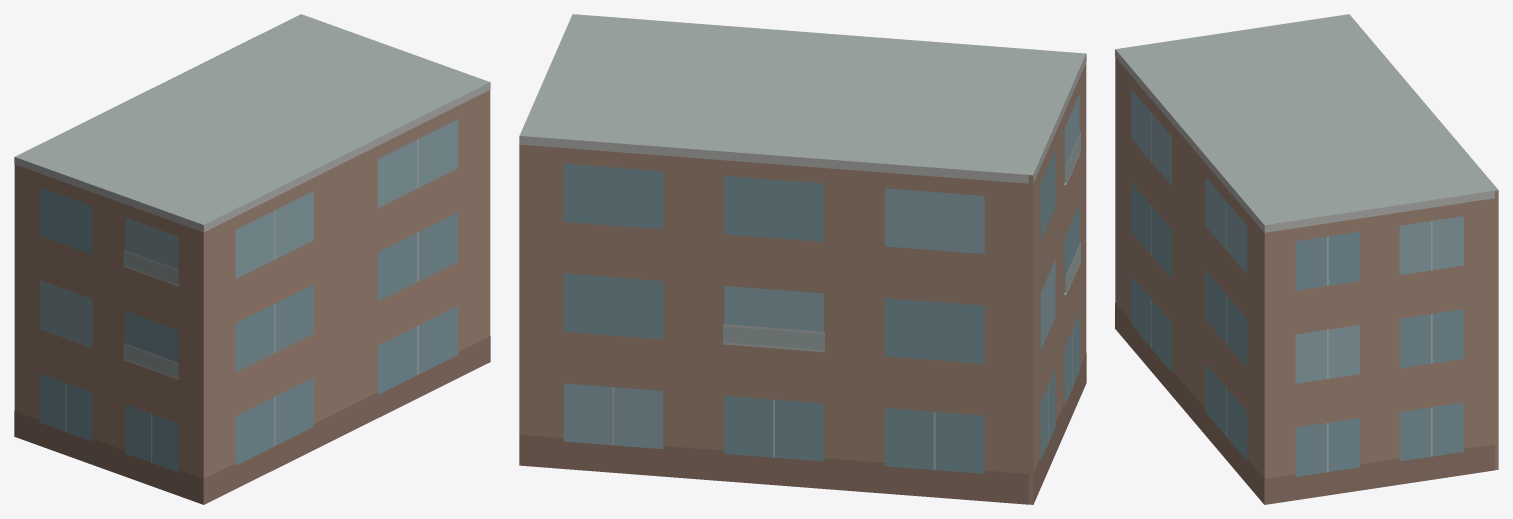
The model's file is survey-upis-33022270.glb.
3 renders of one model, left to right at view 1: azimuth 30°, elevation 25°; view 2: azimuth 150°, elevation 25°; view 3: azimuth 270°, elevation 25°, orthographic. The views are drawn at different scales.
Visible parts, largest first — view 1: survey-upis-33022270.tmp; view 2: survey-upis-33022270.tmp; view 3: survey-upis-33022270.tmp.
Boxes of the visible parts, <box> form: survey-upis-33022270.tmp: <box>14,14,490,504</box>; survey-upis-33022270.tmp: <box>519,14,1086,504</box>; survey-upis-33022270.tmp: <box>1115,14,1498,504</box>.
Bounding box in the file's own units: 14.84 × 9.15 × 11.39.
